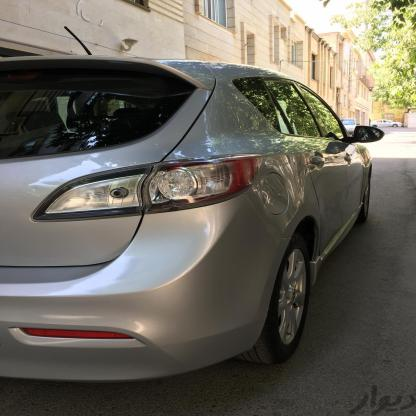Car: (0, 47, 391, 395), (363, 117, 409, 126)
